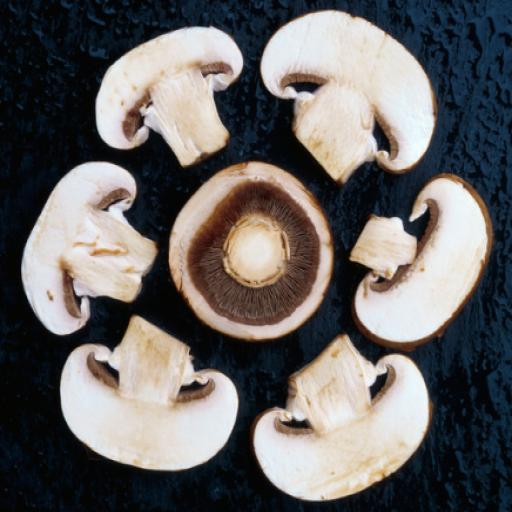mushroom: (143, 139, 369, 367), (238, 0, 463, 210), (35, 296, 260, 505), (329, 154, 512, 369), (0, 151, 172, 341), (88, 10, 250, 178), (0, 1, 1, 1)
